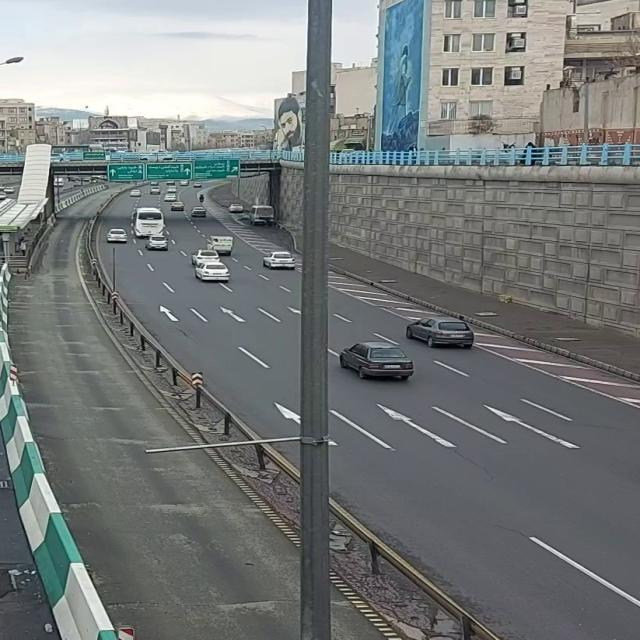Bus: (131, 206, 167, 238)
Car: (339, 341, 416, 383), (405, 316, 475, 350), (192, 261, 236, 286), (263, 245, 299, 273)
